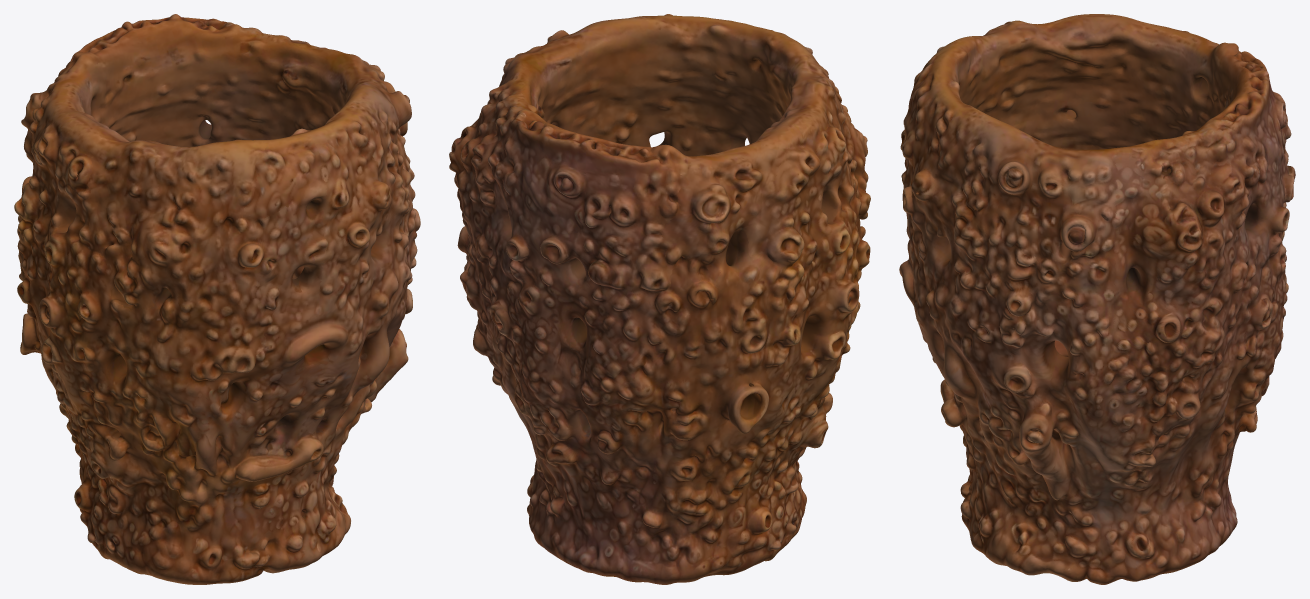
Rendered from sponge_barrel.glb.
The picture shows the model from 3 angles, left to right: view 1: azimuth 30°, elevation 25°; view 2: azimuth 150°, elevation 25°; view 3: azimuth 270°, elevation 25°; orthographic projection.
Visible parts, largest first — view 1: tripo_node_b0d1604f-738b-49ff-b56b-b3993317b053; view 2: tripo_node_b0d1604f-738b-49ff-b56b-b3993317b053; view 3: tripo_node_b0d1604f-738b-49ff-b56b-b3993317b053.
Part boxes in pixels (bbox=[...]): tripo_node_b0d1604f-738b-49ff-b56b-b3993317b053: bbox=[14, 14, 420, 584]; tripo_node_b0d1604f-738b-49ff-b56b-b3993317b053: bbox=[449, 14, 870, 584]; tripo_node_b0d1604f-738b-49ff-b56b-b3993317b053: bbox=[899, 14, 1295, 584].
Bounding box in the file's own units: 0.8247 × 1 × 0.7685.
1 material, 1 textured.
